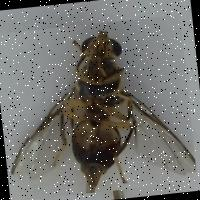Oriental-fruit-fly: (0, 14, 197, 200)
